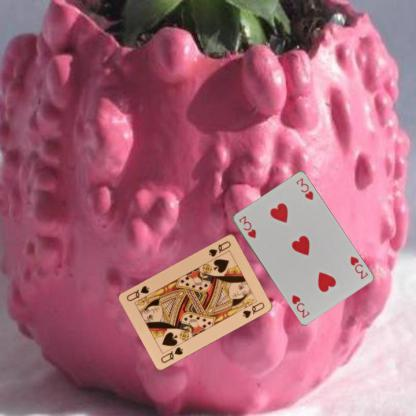3h: (347, 254, 369, 280), (236, 213, 257, 240)
Qs: (206, 238, 232, 258), (158, 344, 184, 364)
